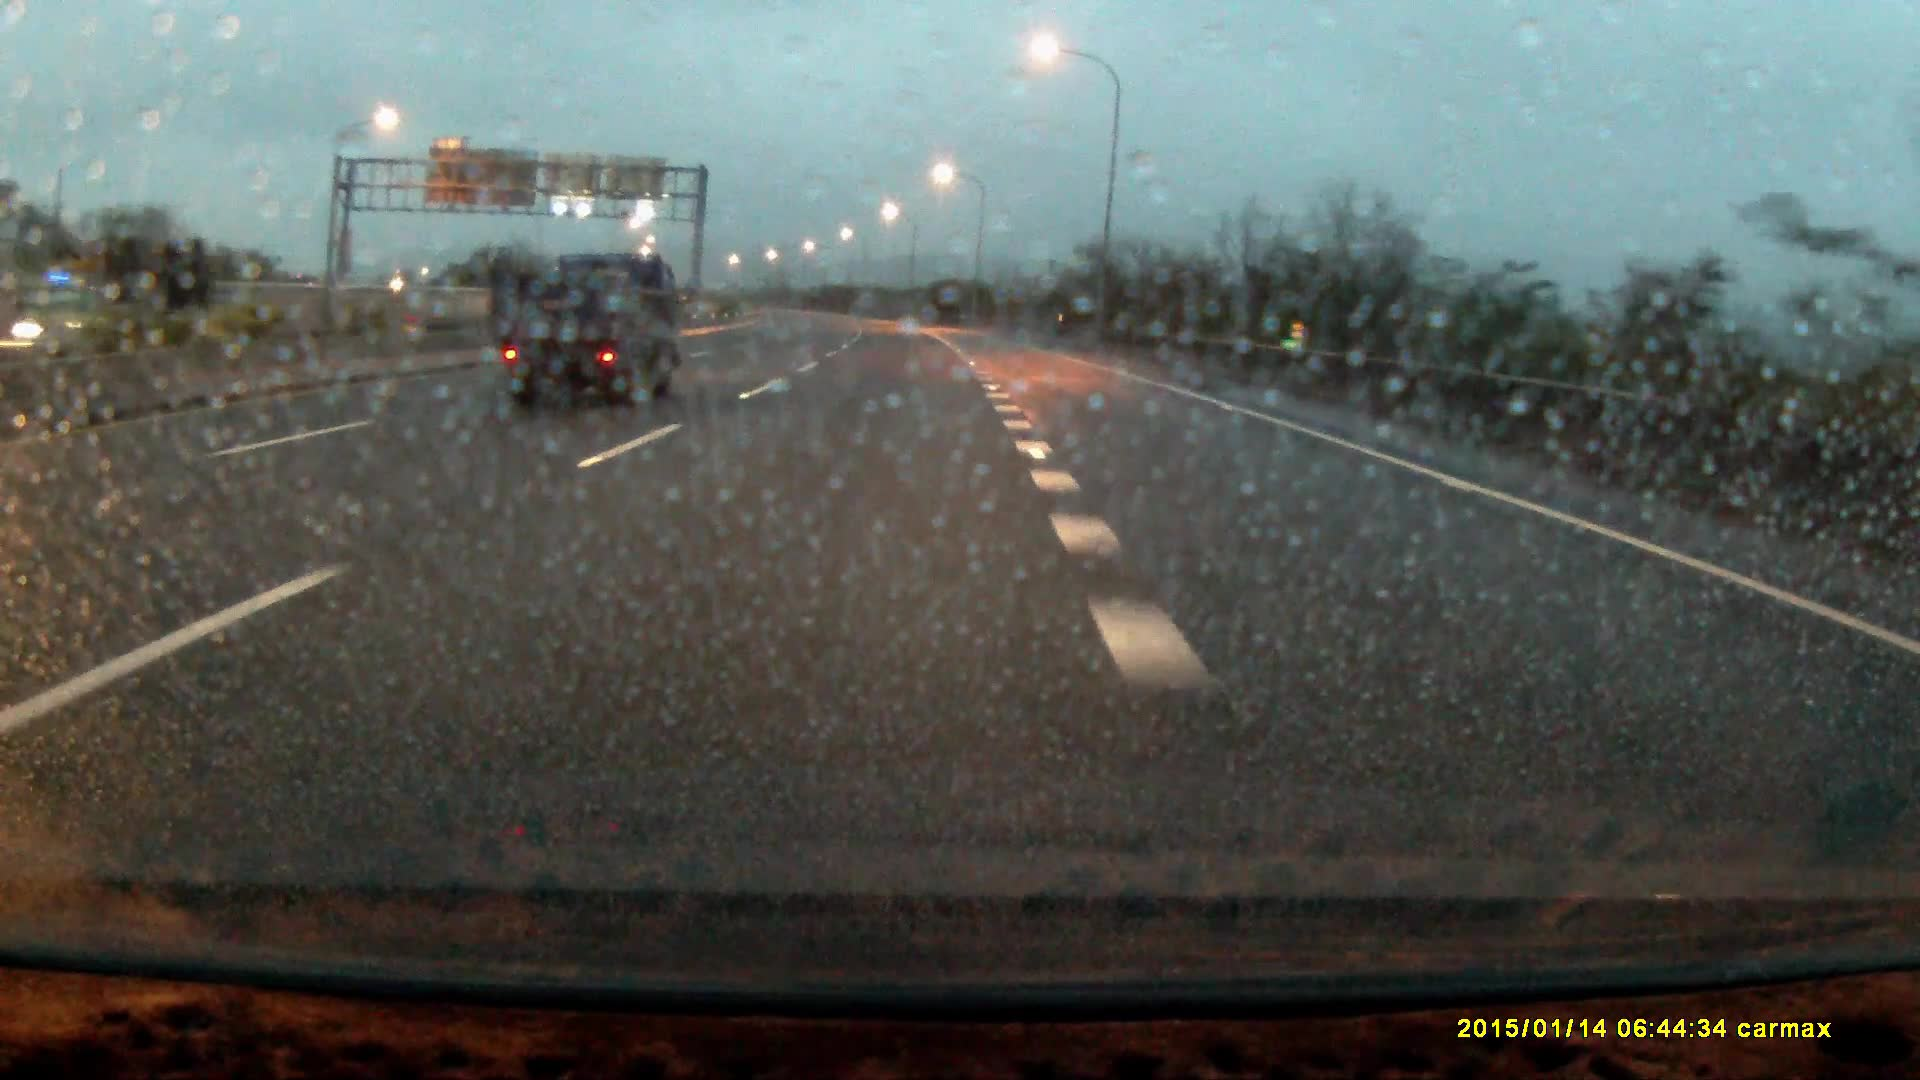vehicle: (491, 251, 686, 409), (40, 233, 215, 334)
